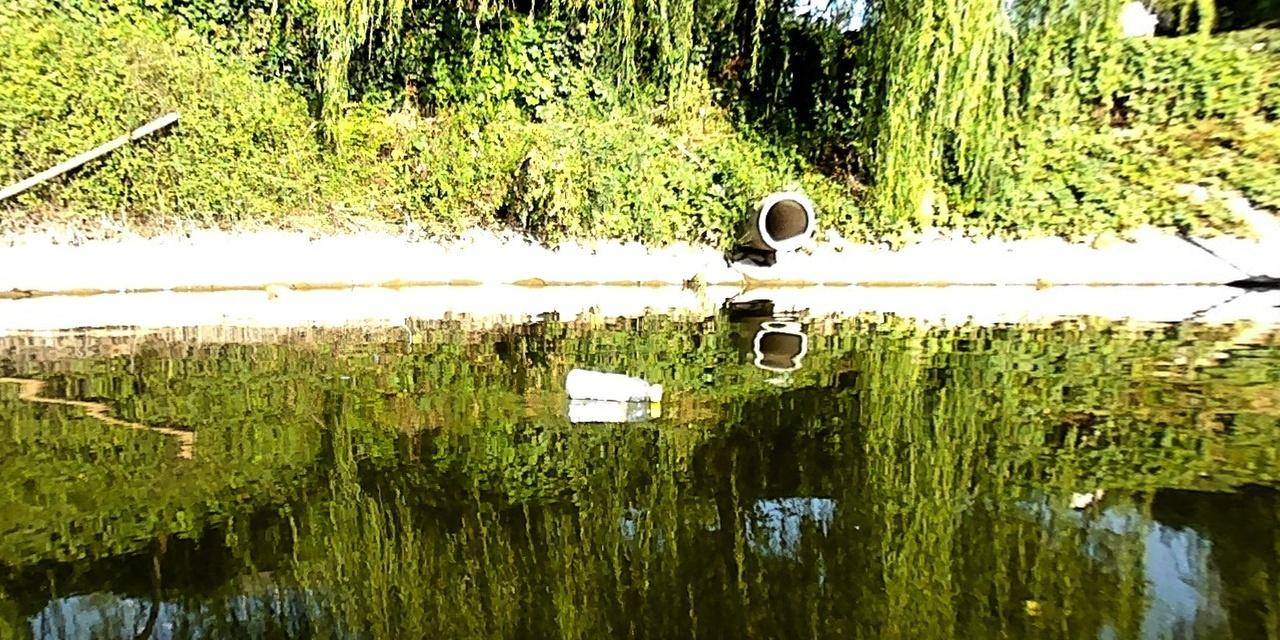bottle: (566, 365, 661, 403)
